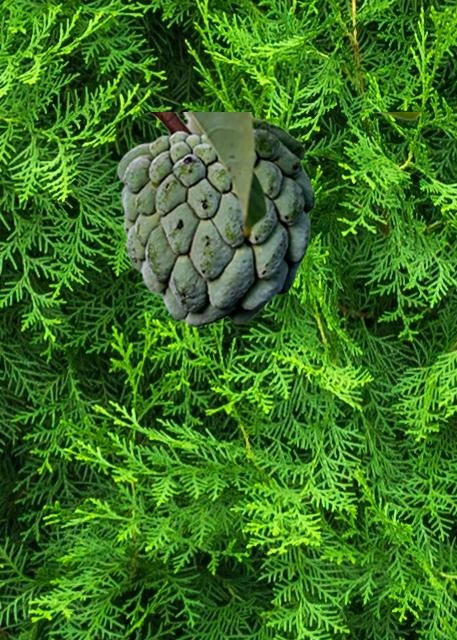atis: (116, 112, 420, 327)
